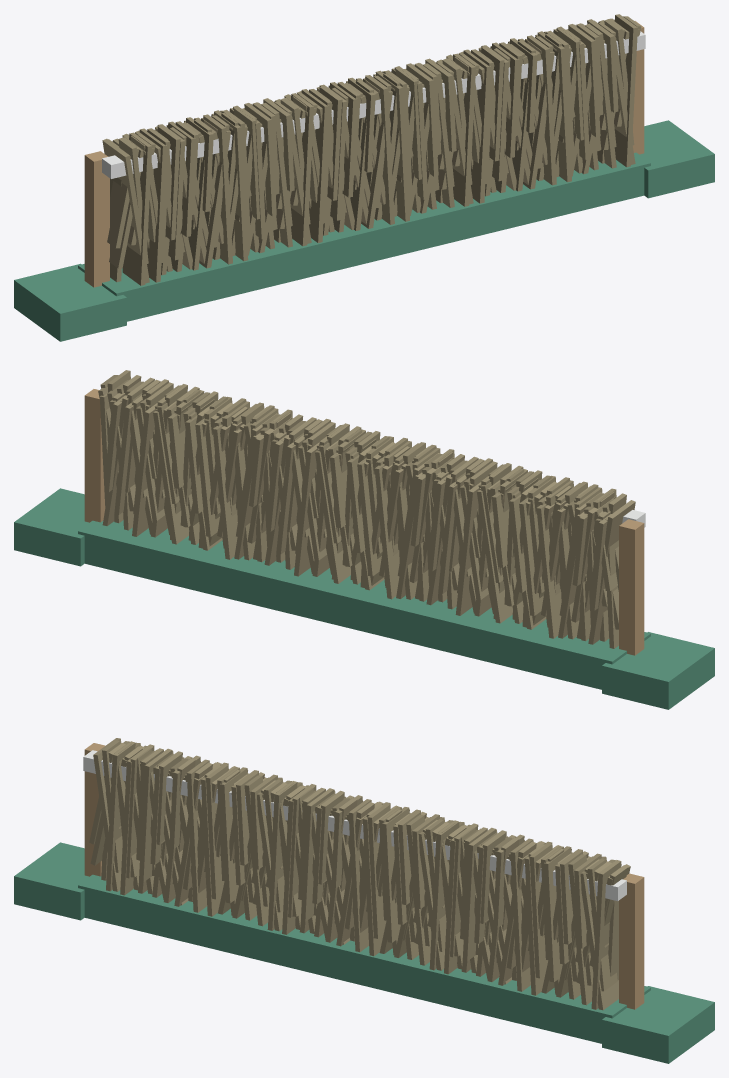
File: racecourse-and-parade-ring-hurdle-3a2dc8af__38597.glb
The picture shows the model from 3 angles, top to bottom: view 1: azimuth 30°, elevation 25°; view 2: azimuth 150°, elevation 25°; view 3: azimuth 330°, elevation 25°; orthographic projection.
Parts seen in each view (by area): view 1: hurdle; view 2: hurdle; view 3: hurdle.
Part boxes in pixels (x1,y1,x2,y2): hurdle: (14, 14, 714, 341); hurdle: (14, 370, 714, 709); hurdle: (14, 738, 714, 1063).
Bounding box in the file's own units: 4.9 × 1.2 × 0.6.
